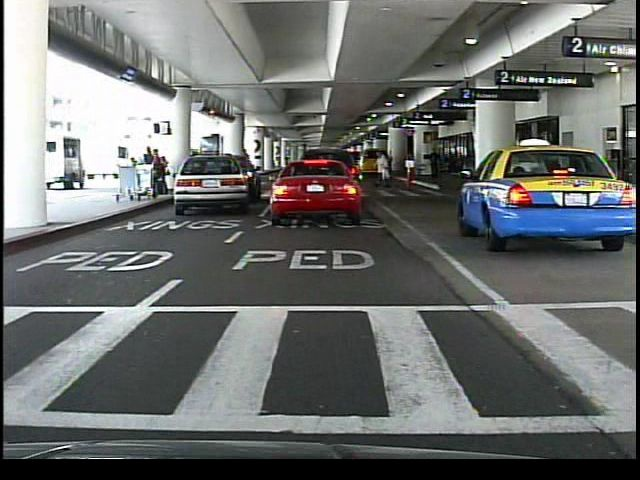person: (236, 144, 257, 202), (276, 155, 294, 207), (147, 147, 162, 197), (297, 150, 311, 203), (376, 150, 391, 189), (428, 150, 442, 184)
